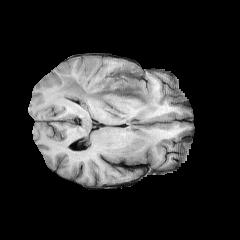glioma: (57, 68, 157, 119)
